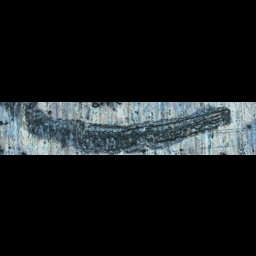d: (4, 103, 234, 154)
